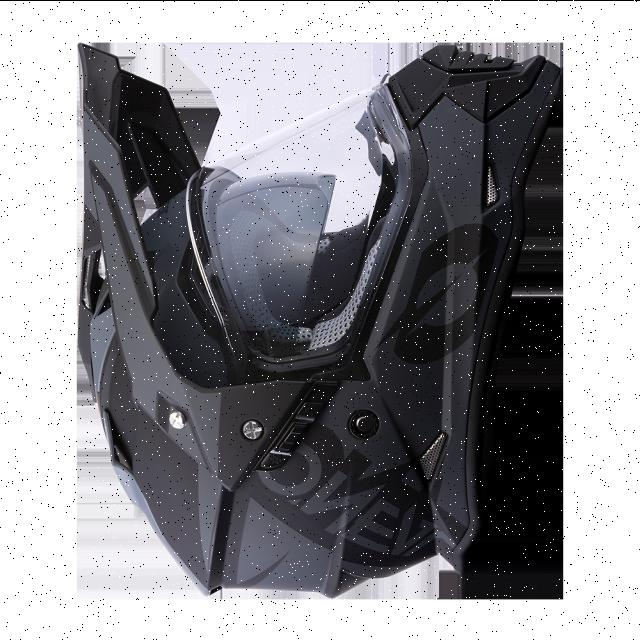Helmet: (34, 24, 576, 605)
